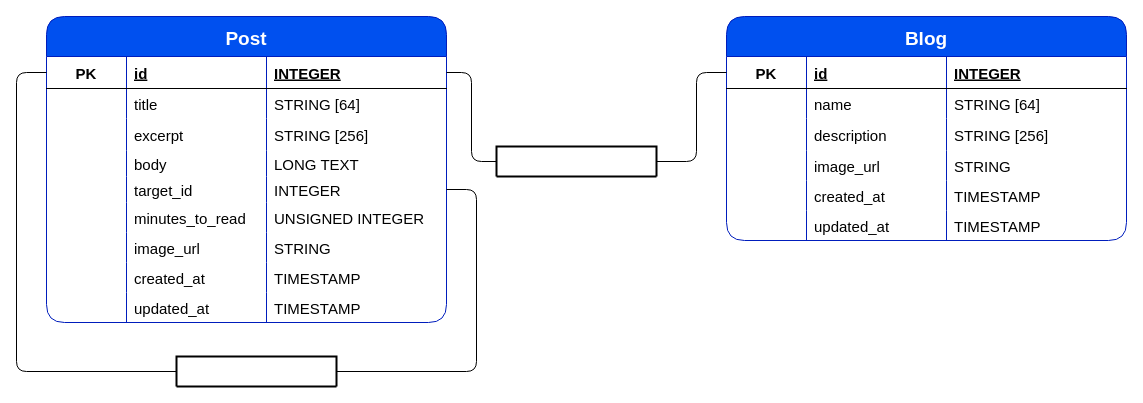
Some shapes in this 1143 by 403 pixel diagram are drawn without their labels. The centre of each missing label's shape, as x and y in pixels:
"Contains" belongs at point 576,161.
"Reviews" belongs at point 256,371.
